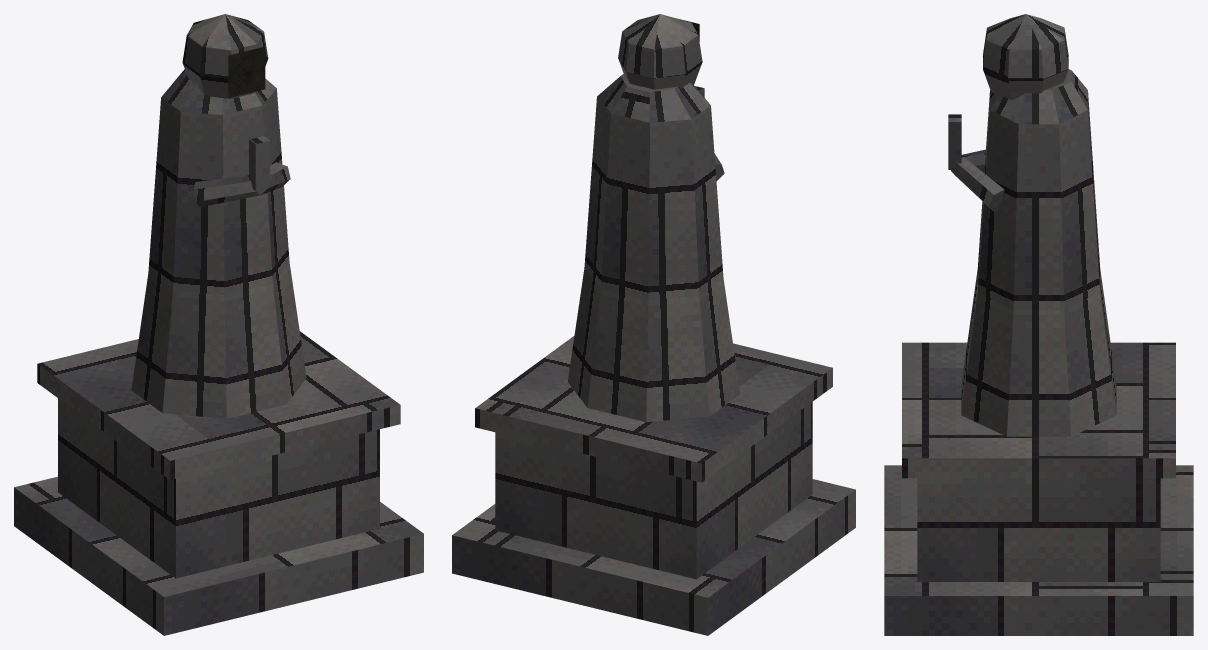
File: estatua.obj
3 renders of one model, left to right at view 1: azimuth 30°, elevation 25°; view 2: azimuth 150°, elevation 25°; view 3: azimuth 270°, elevation 25°, orthographic. The views are drawn at different scales.
Visible parts, largest first — view 1: estatua; view 2: estatua; view 3: estatua.
Part boxes in pixels (x1,y1,x2,y2): estatua: [14, 14, 423, 635]; estatua: [452, 14, 855, 635]; estatua: [884, 14, 1193, 635].
Bounding box in the file's own units: 1.4 × 2.78 × 1.4.
2 materials, 2 textured.
